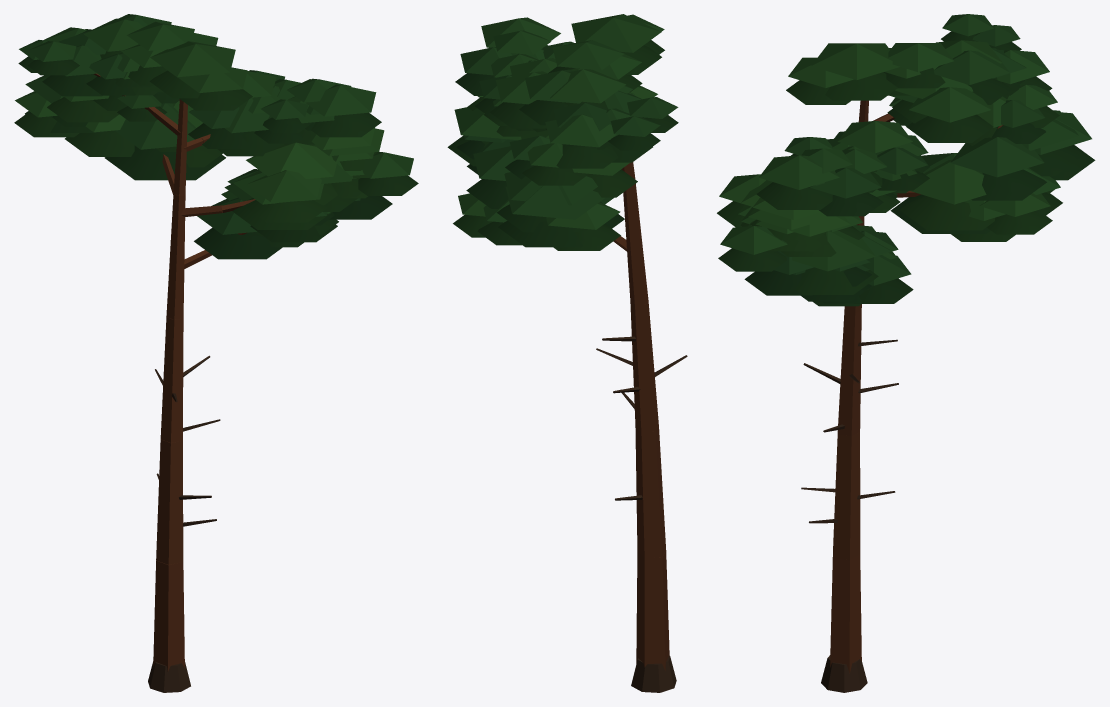
The model's file is tree_pine_3_mid.glb.
3 renders of one model, left to right at view 1: azimuth 30°, elevation 25°; view 2: azimuth 150°, elevation 25°; view 3: azimuth 270°, elevation 25°, orthographic. The views are drawn at different scales.
Visible parts, largest first — view 1: leaf, wood; view 2: leaf, wood; view 3: leaf, wood.
Part boxes in pixels (box(x1,y1,x2,y2)): leaf: box(14, 14, 418, 259); wood: box(93, 73, 255, 692); leaf: box(447, 14, 678, 250); wood: box(596, 162, 687, 692); leaf: box(717, 14, 1095, 306); wood: box(801, 100, 1003, 692).
Bounding box in the file's own units: 6.01 × 12.97 × 6.79.
